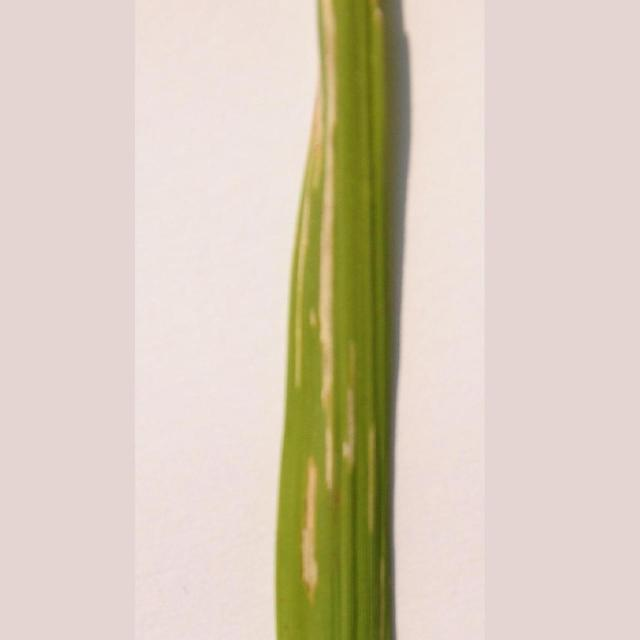Bacterial leaf blight: (314, 0, 338, 493), (346, 341, 382, 547), (291, 212, 314, 390), (299, 453, 317, 600), (364, 3, 390, 66)
